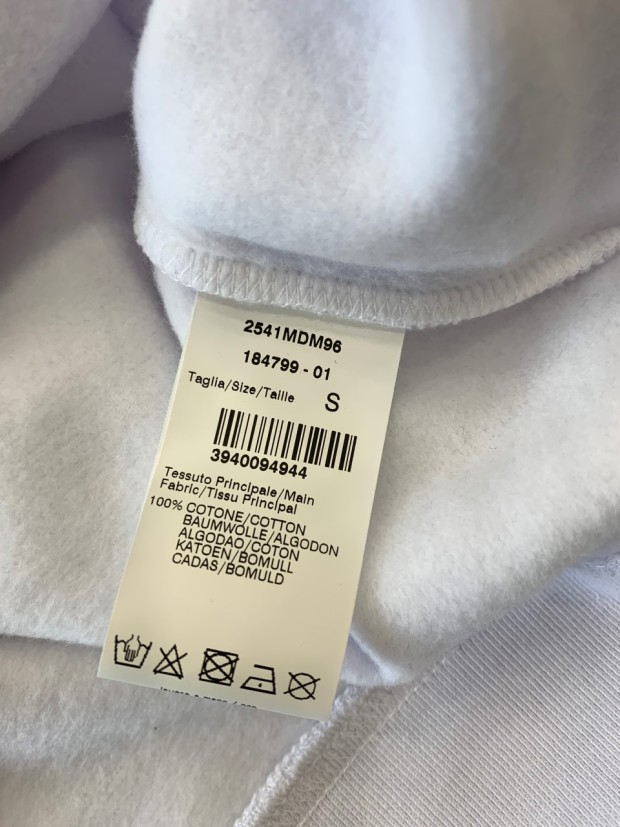ER_hand_wash: (111, 632, 153, 670)
ER_iron_low_temp: (241, 660, 279, 697)
ER_no_bleach: (149, 642, 192, 681)
ER_no_dry_clean: (284, 668, 320, 703)
ER_no_tumble_dry: (198, 645, 240, 688)
